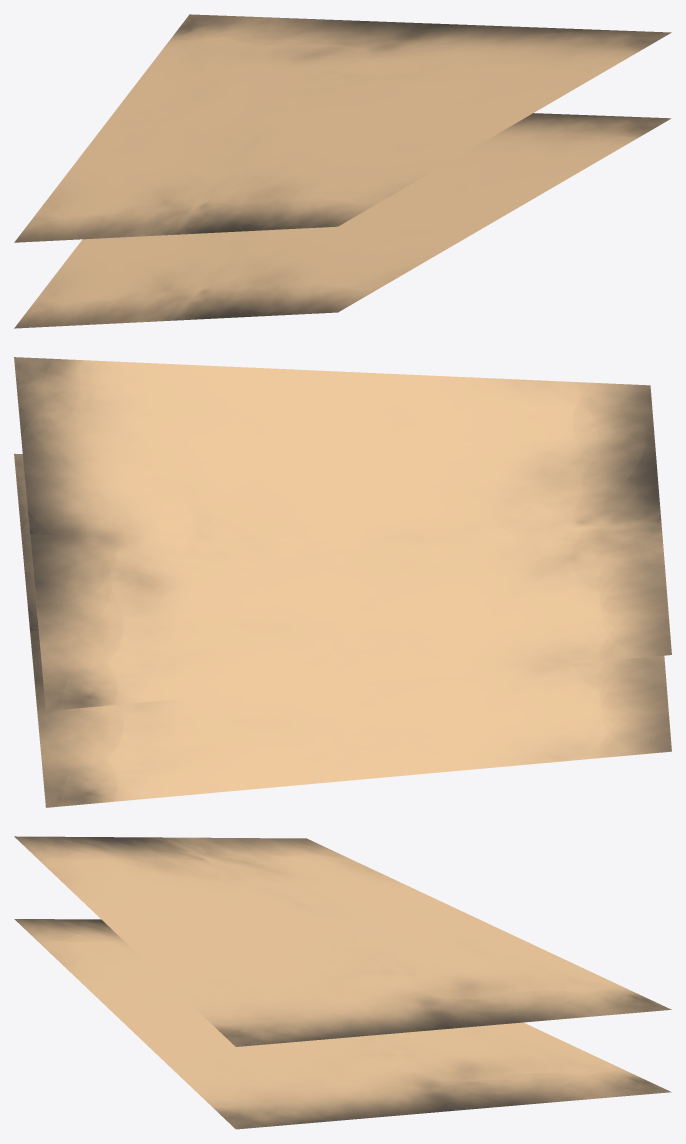
File: CourseSummer_CurveFloor_9_4.fbx
3 renders of one model, top to bottom at view 1: azimuth 30°, elevation 25°; view 2: azimuth 150°, elevation 25°; view 3: azimuth 270°, elevation 25°, orthographic. The views are drawn at different scales.
Visible parts, largest first — view 1: polySurface382; view 2: polySurface382; view 3: polySurface382.
Part boxes in pixels (x1=…): polySurface382: x1=14, y1=14, x2=671, y2=328; polySurface382: x1=14, y1=357, x2=671, y2=807; polySurface382: x1=14, y1=836, x2=671, y2=1129.
Bounding box in the file's own units: 7.57 × 2 × 7.24.
Materials: 1 (1 with a texture image).
